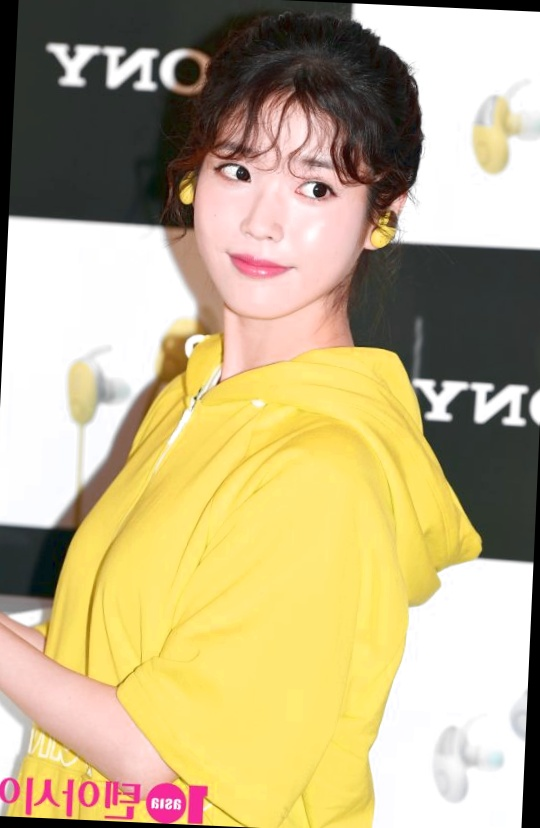earphone: (360, 189, 407, 252)
